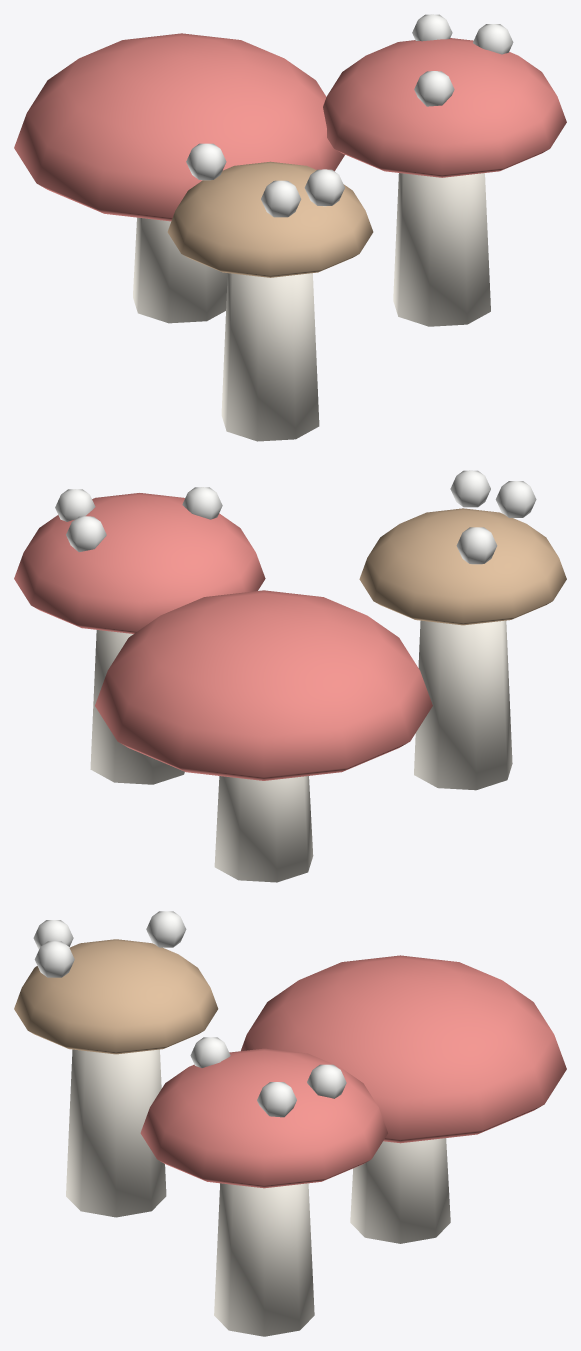
Rendered from mushrooms.glb.
3 views of the same model, one above another, from view 1: azimuth 30°, elevation 25°; view 2: azimuth 150°, elevation 25°; view 3: azimuth 270°, elevation 25° (orthographic).
Visible parts, largest first — view 1: mushrooms; view 2: mushrooms; view 3: mushrooms.
Boxes of the visible parts, x1,y1,x2,y2 form: mushrooms: (14, 14, 566, 441); mushrooms: (14, 470, 566, 882); mushrooms: (14, 911, 566, 1336).
Size of the model in its own units: 0.3043 by 0.1753 by 0.3299.
